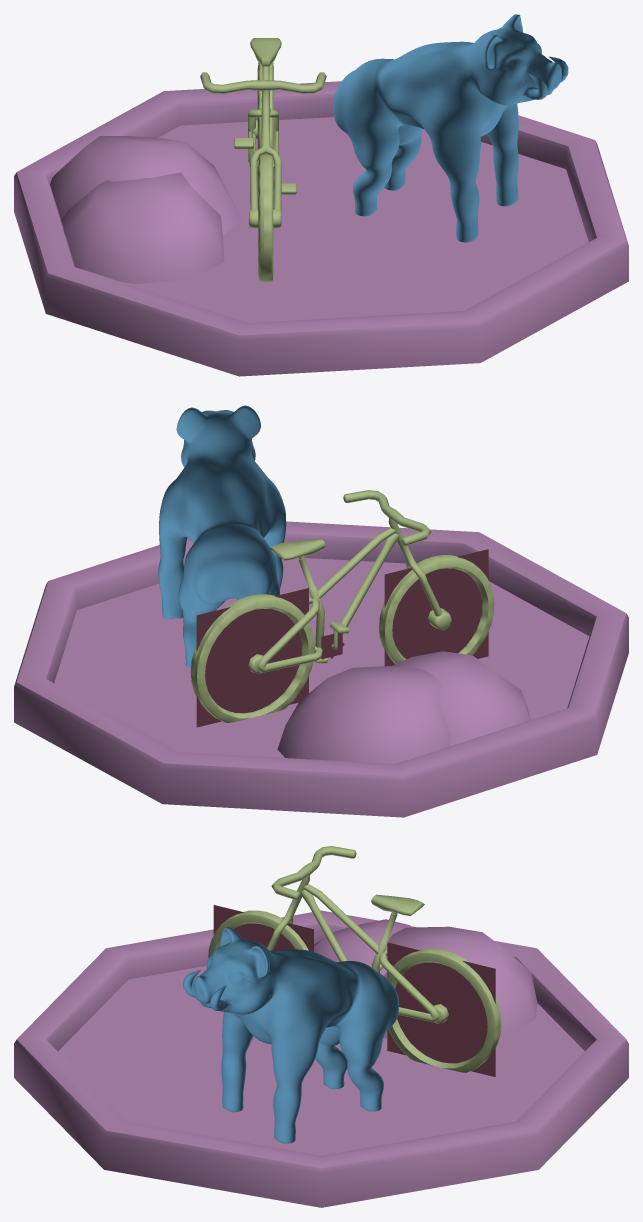
The model's file is SM_SanglierComplet.fbx.
3 views of the same model, one above another, from view 1: azimuth 30°, elevation 25°; view 2: azimuth 150°, elevation 25°; view 3: azimuth 270°, elevation 25° (orthographic). The views are drawn at different scales.
Parts seen in each view (by area): view 1: Boar Socle; view 2: Boar Socle; view 3: Boar Socle.
Part boxes in pixels (left/top/right/bottom): Boar Socle: left=14, top=14, right=628, bottom=376; Boar Socle: left=14, top=405, right=628, bottom=817; Boar Socle: left=14, top=846, right=628, bottom=1207.
Size of the model in its own units: 288 by 108 by 288.
